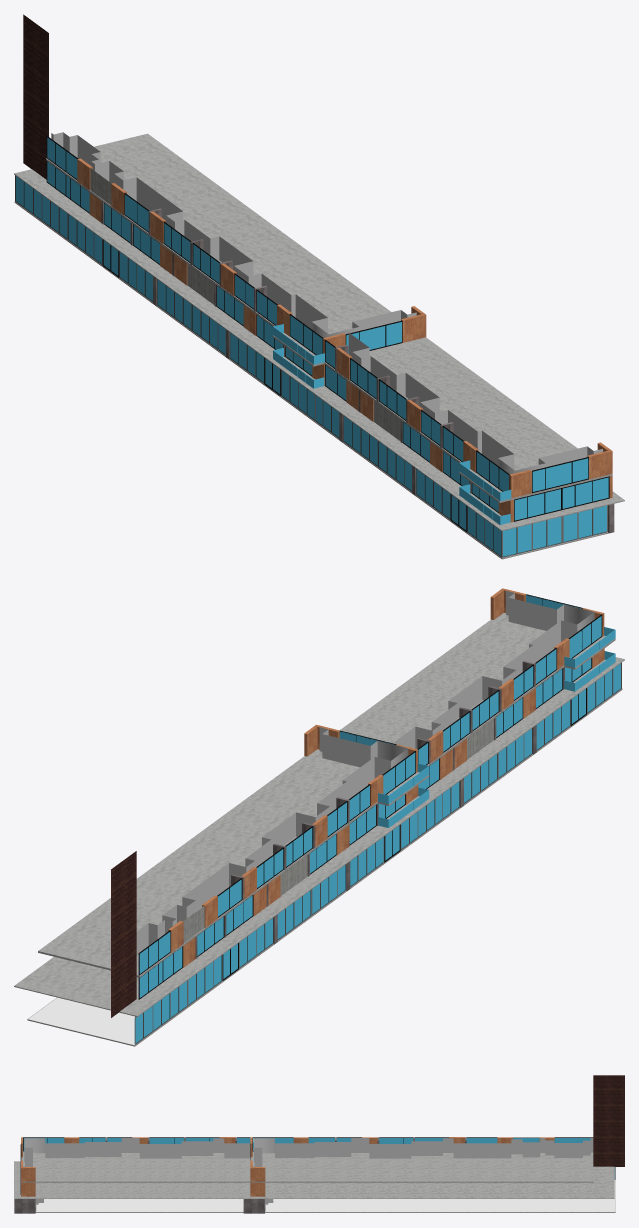
File: house_03_section_1.FBX
3 renders of one model, top to bottom at view 1: azimuth 30°, elevation 25°; view 2: azimuth 150°, elevation 25°; view 3: azimuth 270°, elevation 25°, orthographic. The views are drawn at different scales.
Visible parts, largest first — view 1: Object1114, Object1150, Object1128, Object1152, Object1132, Object1146, Object1154, Object1126, Object1142, Object1122, Object1140, Object1120 (+3 smaller); view 2: Object1114, Object1150, Object1128, Object1152, Object1132, Object1154, Object1146, Object1126, Object1136, Object1142, Object1140, Object1122 (+5 smaller); view 3: Object1150, Object1128, Object1152, Object1136, Object1132, Object1154, Object1116, Object1114, Object1146, Object1126, Object1138, Object1118 (+3 smaller).
Part boxes in pixels (<box>): Object1114: <box>16,137,608,556</box>; Object1150: <box>14,133,425,393</box>; Object1128: <box>309,337,624,531</box>; Object1152: <box>51,132,416,337</box>; Object1132: <box>348,333,602,474</box>; Object1146: <box>77,158,426,385</box>; Object1154: <box>23,14,48,179</box>; Object1126: <box>336,348,612,522</box>; Object1142: <box>46,136,402,395</box>; Object1122: <box>325,339,609,532</box>; Object1140: <box>15,175,315,421</box>; Object1120: <box>315,400,607,557</box>; Object1114: <box>134,595,620,1043</box>; Object1150: <box>14,749,437,1016</box>; Object1128: <box>340,613,624,800</box>; Object1152: <box>136,727,408,979</box>; Object1132: <box>394,591,594,748</box>; Object1154: <box>111,851,136,1017</box>; Object1146: <box>168,724,418,967</box>; Object1126: <box>427,588,604,779</box>; Object1136: <box>28,997,134,1045</box>; Object1142: <box>138,730,415,999</box>; Object1140: <box>135,799,435,1044</box>; Object1122: <box>417,594,602,789</box>; Object1150: <box>243,1148,614,1198</box>; Object1128: <box>14,1151,250,1198</box>; Object1152: <box>254,1138,593,1166</box>; Object1136: <box>265,1180,615,1211</box>; Object1132: <box>24,1138,250,1166</box>; Object1154: <box>593,1075,624,1166</box>; Object1116: <box>36,1199,243,1211</box>; Object1114: <box>23,1138,614,1179</box>; Object1146: <box>250,1137,554,1196</box>; Object1126: <box>21,1137,235,1196</box>; Object1138: <box>243,1137,466,1213</box>; Object1118: <box>14,1137,236,1213</box>.
Bounding box in the file's own units: 17980 × 24872 × 125136.
